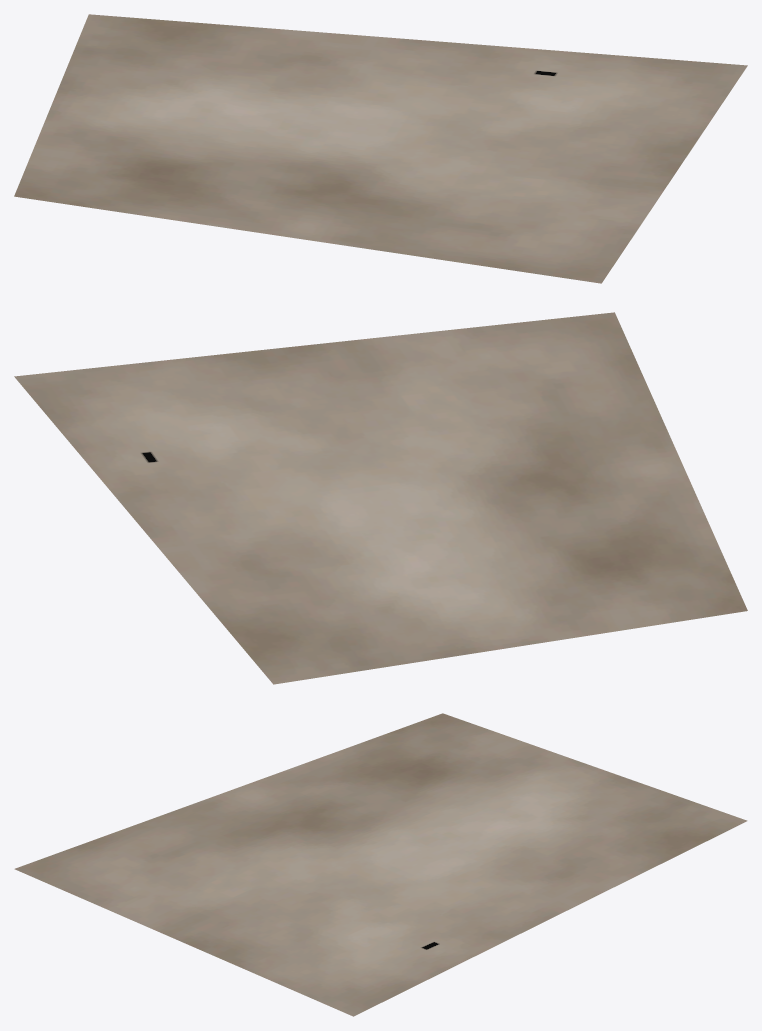
Rendered from web_12.fbx.
The picture shows the model from 3 angles, top to bottom: view 1: azimuth 30°, elevation 25°; view 2: azimuth 150°, elevation 25°; view 3: azimuth 270°, elevation 25°; orthographic projection. The views are drawn at different scales.
Parts seen in each view (by area): view 1: mine_tileset/mine_web01_mat; view 2: mine_tileset/mine_web01_mat; view 3: mine_tileset/mine_web01_mat.
Part boxes in pixels (<box>): mine_tileset/mine_web01_mat: <box>14,14,747,283</box>; mine_tileset/mine_web01_mat: <box>14,312,747,684</box>; mine_tileset/mine_web01_mat: <box>14,713,747,1016</box>.
Size of the model in its own units: 6.29 by 0 by 6.43.
